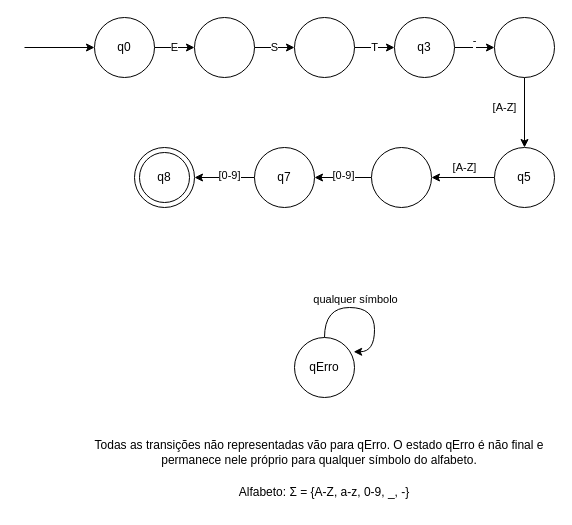
Image size: 572x525. Some labels were removed from this diagram. Here are the shapes that lost their labels. From the top down, the centre of each, then its label:
point (224, 47): q1
point (324, 47): q2
point (524, 47): q4
point (401, 177): q6
